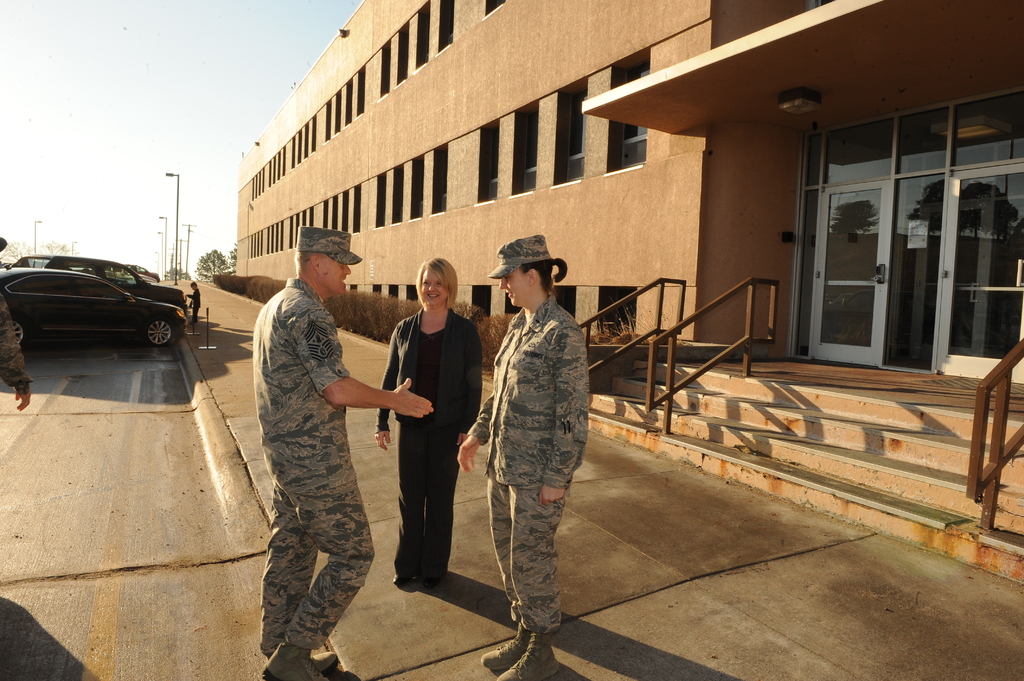Car: (15, 256, 184, 324)
